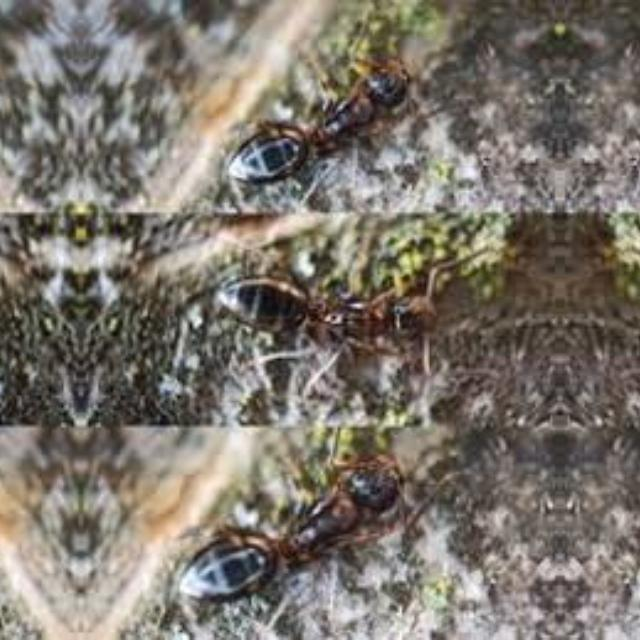Colobopsis: (144, 222, 534, 406), (170, 437, 418, 609), (194, 40, 426, 194)
